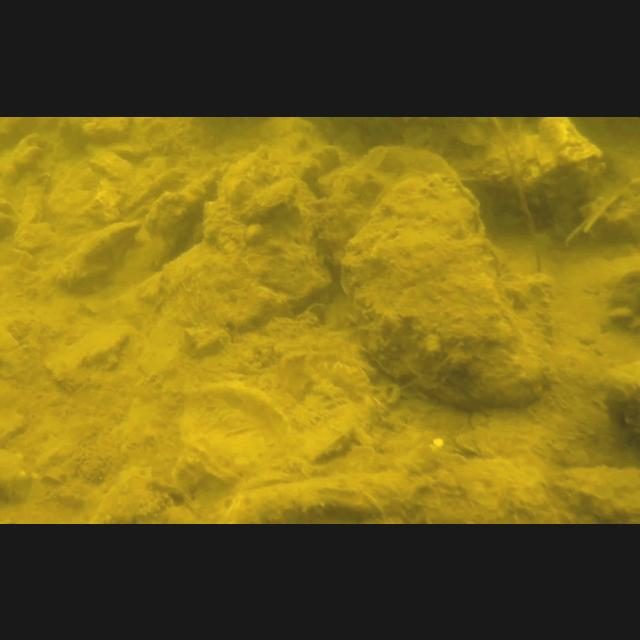Oyster-Closed: (338, 169, 542, 407), (220, 451, 640, 523), (313, 140, 452, 274), (176, 375, 284, 475), (143, 162, 217, 264), (48, 216, 140, 292), (237, 177, 301, 227)
Oyster-Open: (487, 116, 605, 186), (402, 116, 508, 184)
